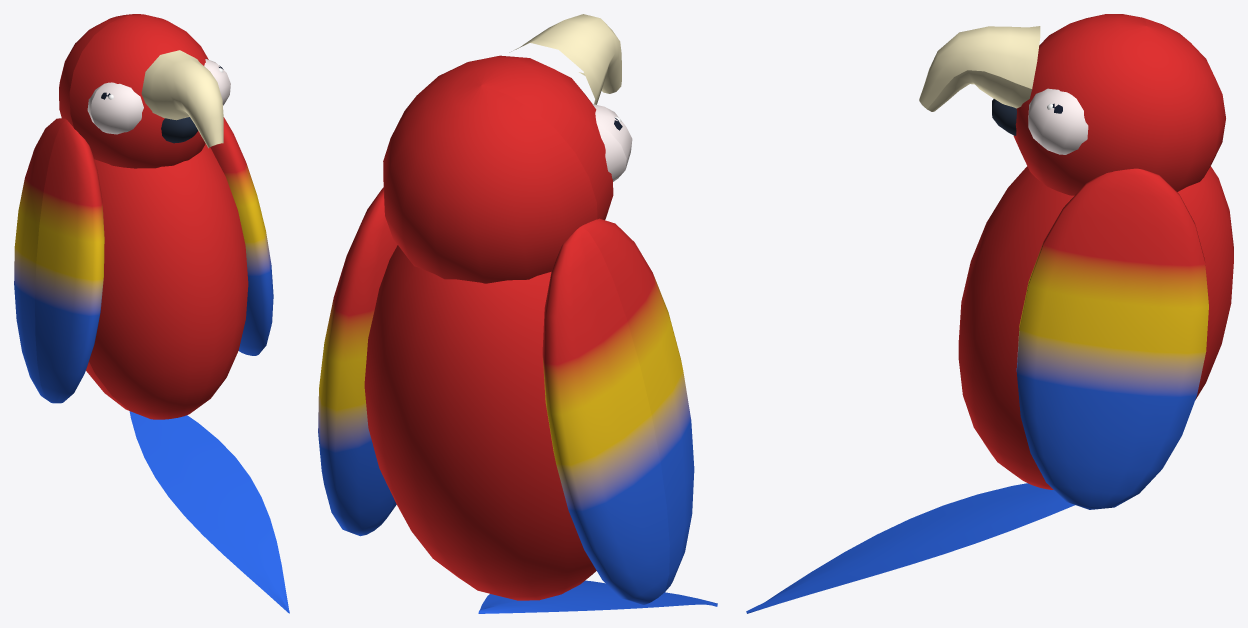
File: macaw.glb
The picture shows the model from 3 angles, left to right: view 1: azimuth 30°, elevation 25°; view 2: azimuth 150°, elevation 25°; view 3: azimuth 270°, elevation 25°; orthographic projection. The views are drawn at different scales.
Visible parts, largest first — view 1: Body, WingL, Tail, Head, WingR, Beak, Cheek_-1, BeakLower, Cheek_1; view 2: Body, WingL, Head, WingR, Beak, Tail, Cheek_-1; view 3: WingR, Head, Body, Tail, Beak, Cheek_1.
Part boxes in pixels (left/top/right/bottom): Body: left=86, top=144, right=248, bottom=419; WingL: left=14, top=118, right=104, bottom=403; Tail: left=129, top=411, right=289, bottom=613; Head: left=59, top=14, right=208, bottom=168; WingR: left=210, top=117, right=273, bottom=355; Beak: left=141, top=50, right=223, bottom=148; Cheek_-1: left=87, top=82, right=143, bottom=134; BeakLower: left=161, top=117, right=198, bottom=143; Cheek_1: left=204, top=59, right=230, bottom=105; Body: left=364, top=245, right=596, bottom=600; WingL: left=542, top=218, right=694, bottom=604; Head: left=383, top=55, right=613, bottom=283; WingR: left=318, top=187, right=397, bottom=536; Beak: left=509, top=14, right=621, bottom=104; Tail: left=478, top=580, right=717, bottom=613; Cheek_-1: left=592, top=104, right=632, bottom=181; WingR: left=1016, top=168, right=1208, bottom=509; Head: left=1013, top=14, right=1225, bottom=195; Body: left=958, top=166, right=1233, bottom=489; Tail: left=746, top=483, right=1074, bottom=613; Beak: left=919, top=26, right=1040, bottom=111; Cheek_1: left=1028, top=88, right=1088, bottom=154.
Bounding box in the file's own units: 0.5162 × 1.08 × 0.8095.
